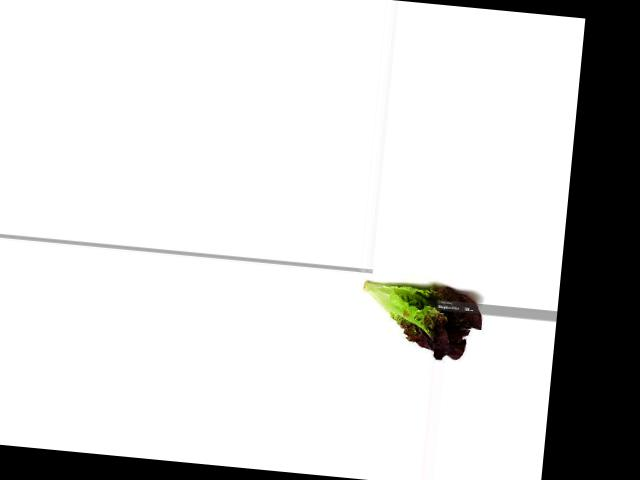lettuce: (352, 272, 488, 364)
